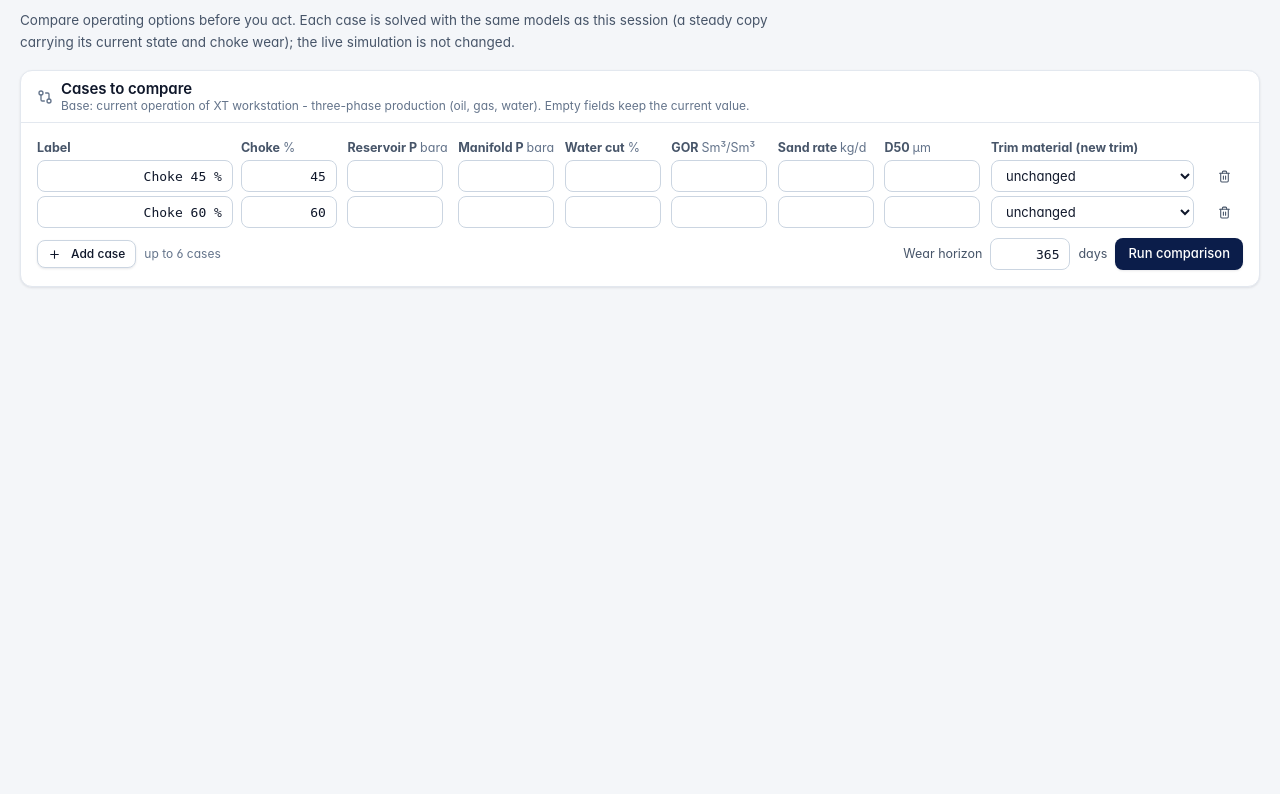
Test: Scenario comparison page › runs the study as a background job and shows every case with its difference from the base
The image size is (1280, 794).
Note: edit the second case: water cut entered in %, sent as a fraction
Type "50" into the field named "case 2 Water cut" at (613, 212), box [565,196,661,228]
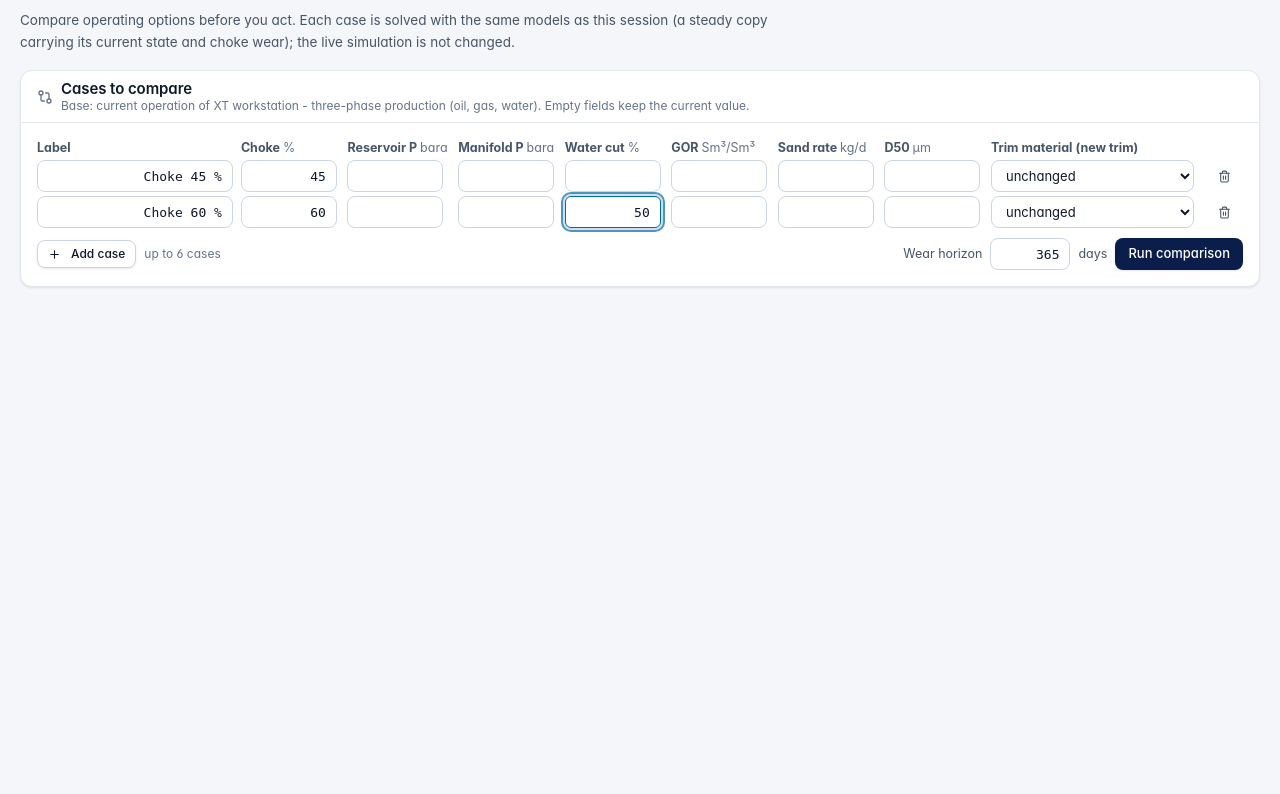
Click the button with test id "run-comparison" at (1179, 254), box [1115,238,1243,270]
(page scrolled)
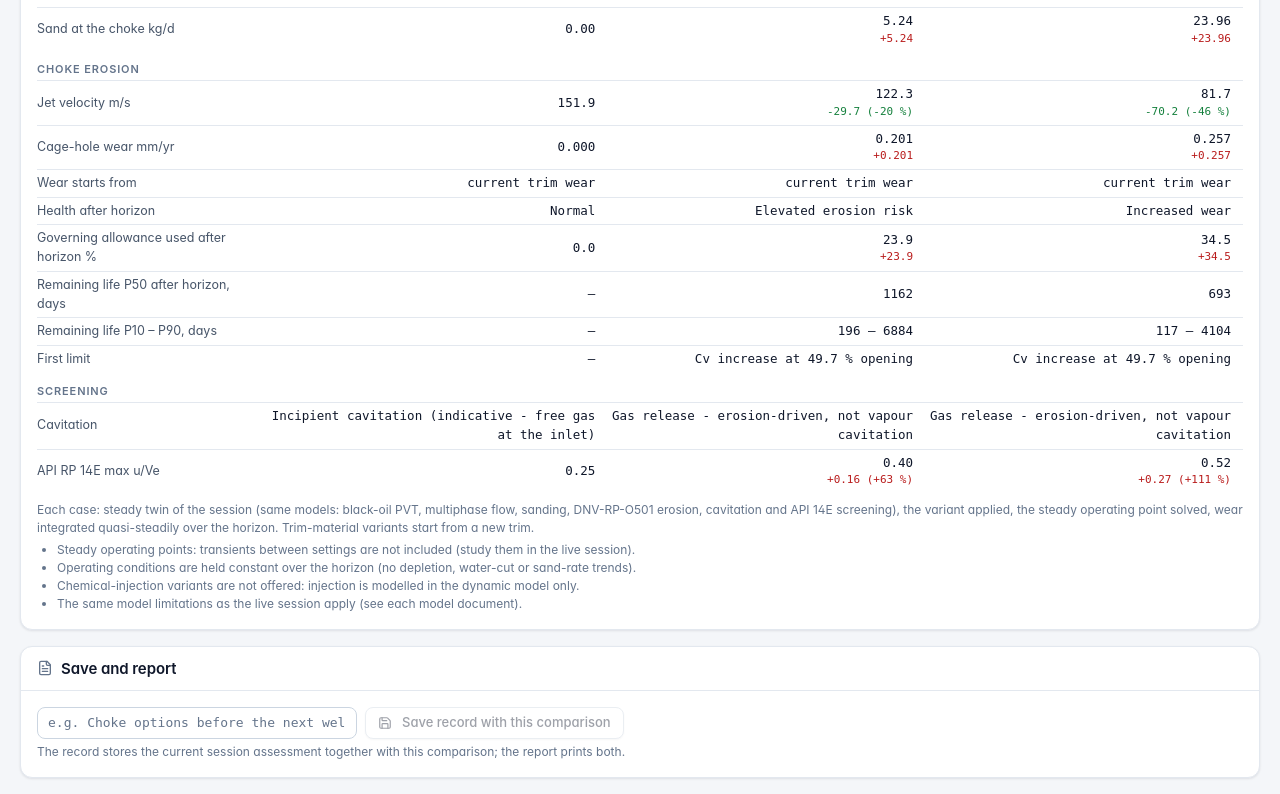
Result: the list item "Steady operating points: transients between settings are not included (study them in the live session)." is shown at [57,542,635,557]
